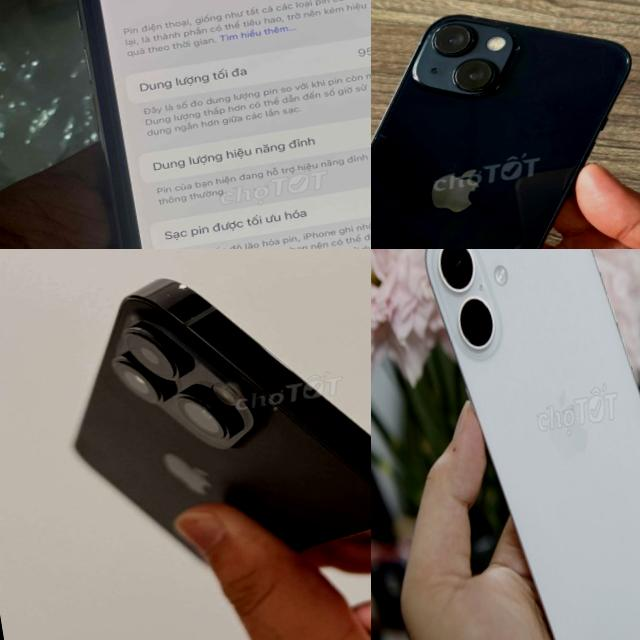gen_12_13: (371, 0, 640, 249)
gen_14: (19, 249, 371, 618)
gen_16: (405, 249, 640, 640)
gen_x_xs: (64, 0, 371, 249)
